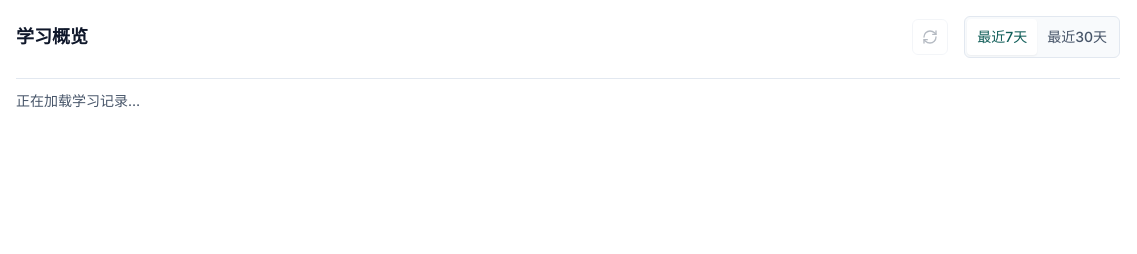
LearningDashboard › uses one period for both views and ignores a late response for the previous period
The image size is (1137, 254).
Click the button "最近30天" at (1077, 37), box [1037,19,1117,55]
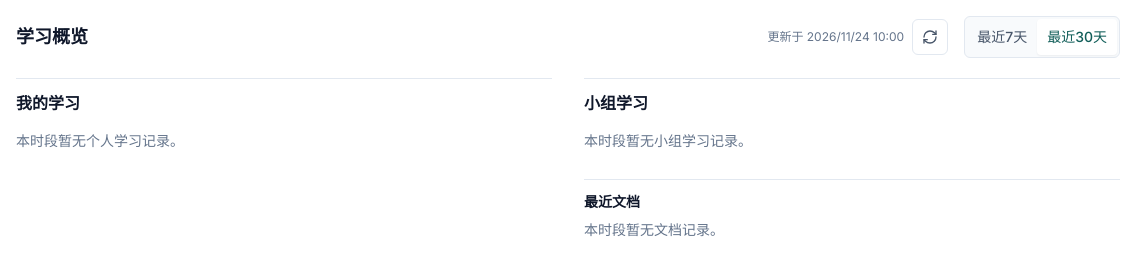
expect the text "本时段暂无个人学习记录。" is shown: met, box [16,132,184,149]
expect the text "本时段暂无小组学习记录。" is shown: met, box [584,132,752,149]
